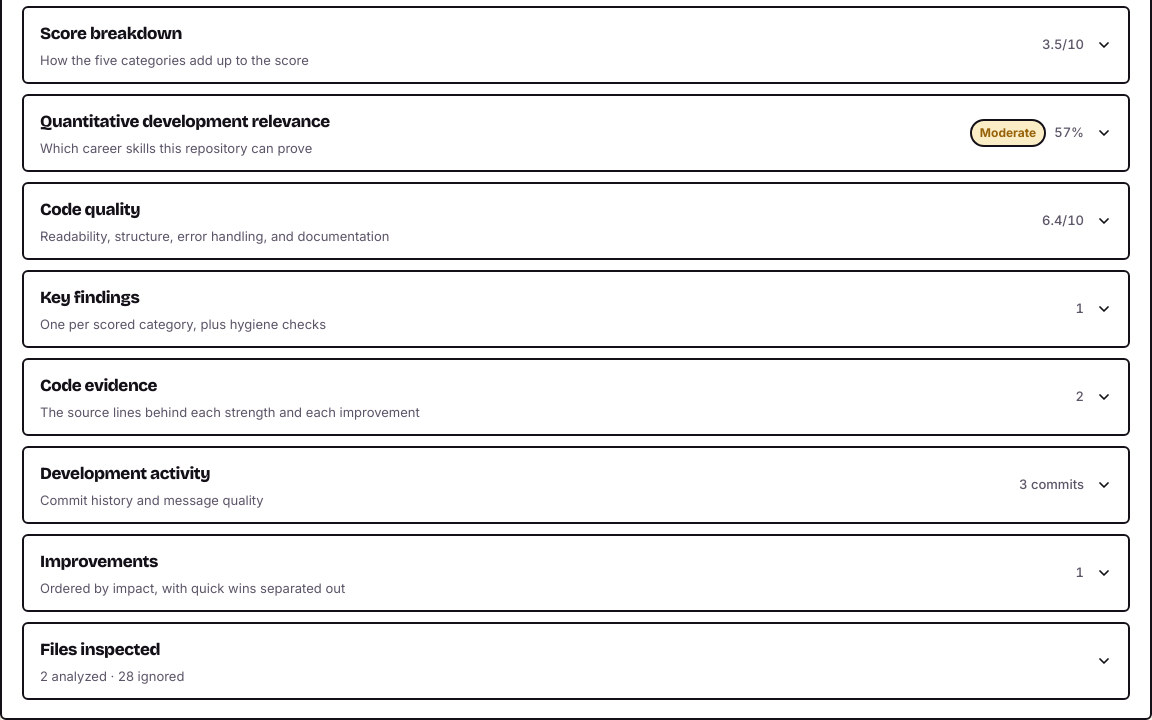
Test case: AnalysisPanel › lets the user inspect analyzed and ignored files
(page scrolled)
Click the text "Files inspected" at (100, 649), box [40,639,160,660]
(page scrolled)
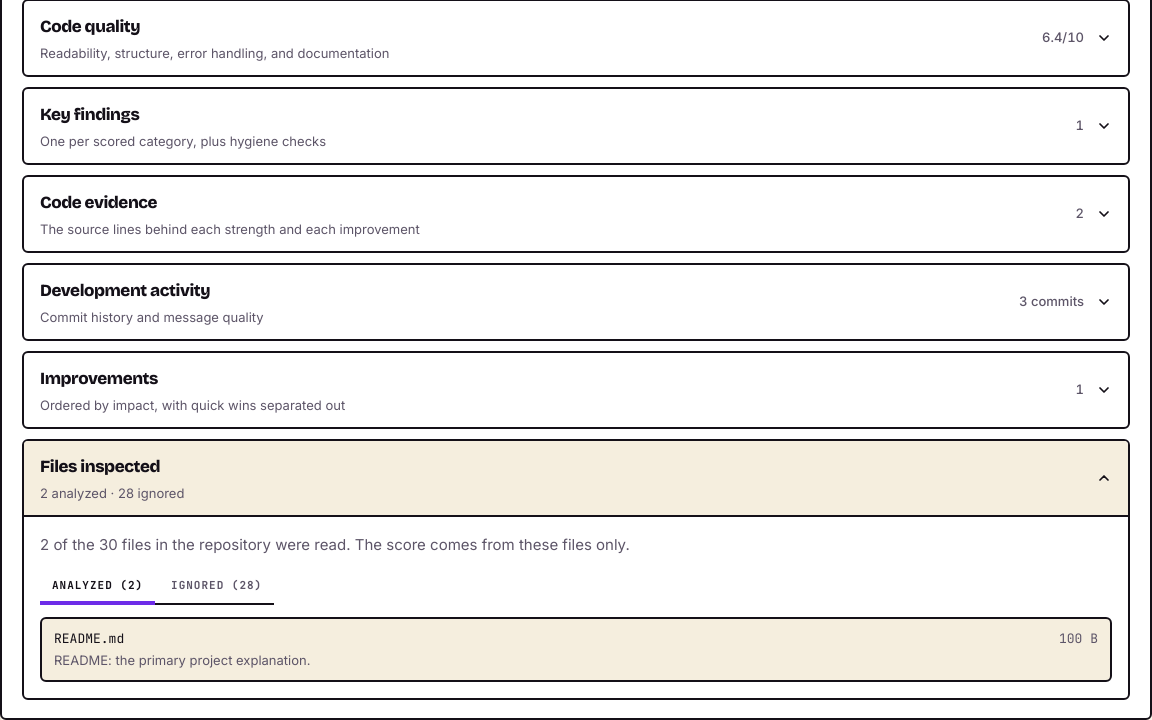
Expected: the link "README.md" is shown, [54,629,124,649]
Click the button "Ignored (28)" at (217, 587), box [159,569,274,605]
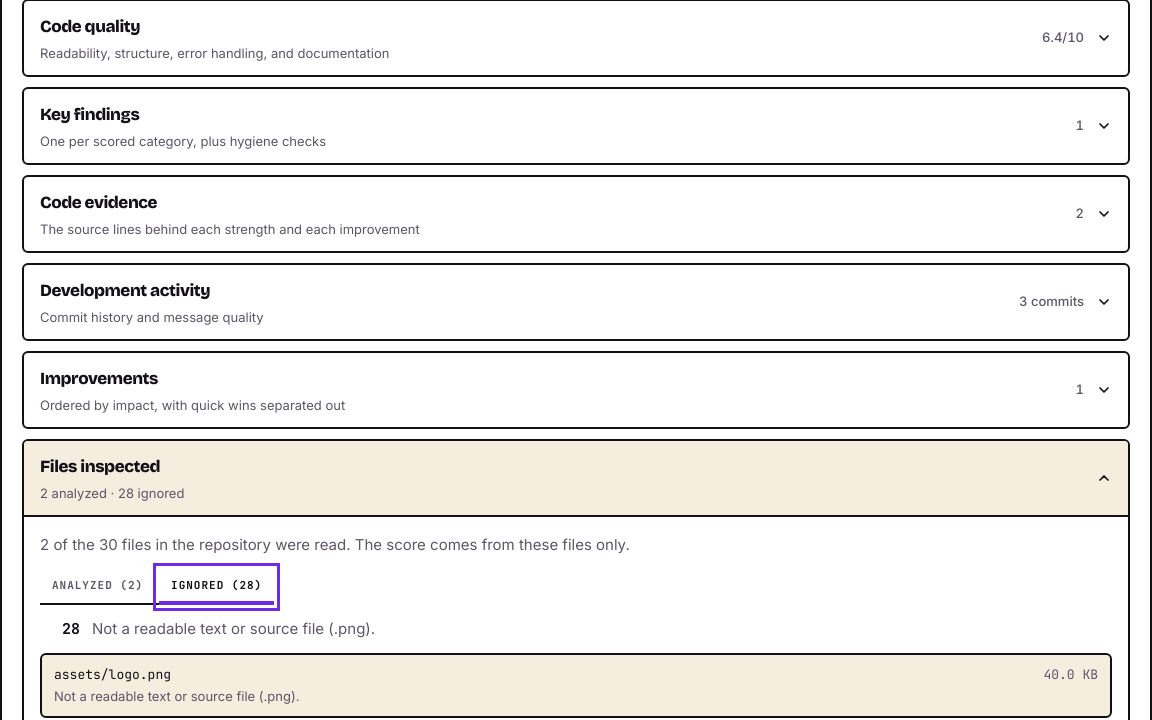
Expected: the link "assets/logo.png" is shown, [54,665,171,685]
Expected: the link "README.md" is gone
Expected: the 1st text "Not a readable text or source file (.png)." is shown, [92,617,375,641]
